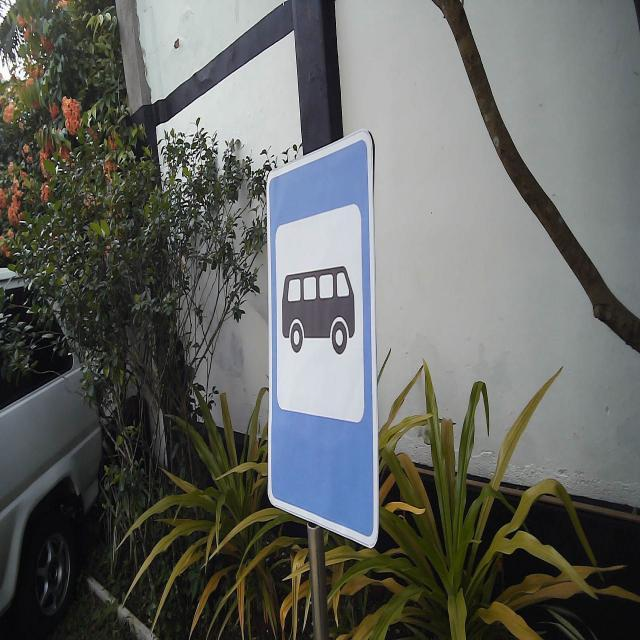bus_stop: (266, 126, 380, 552)
